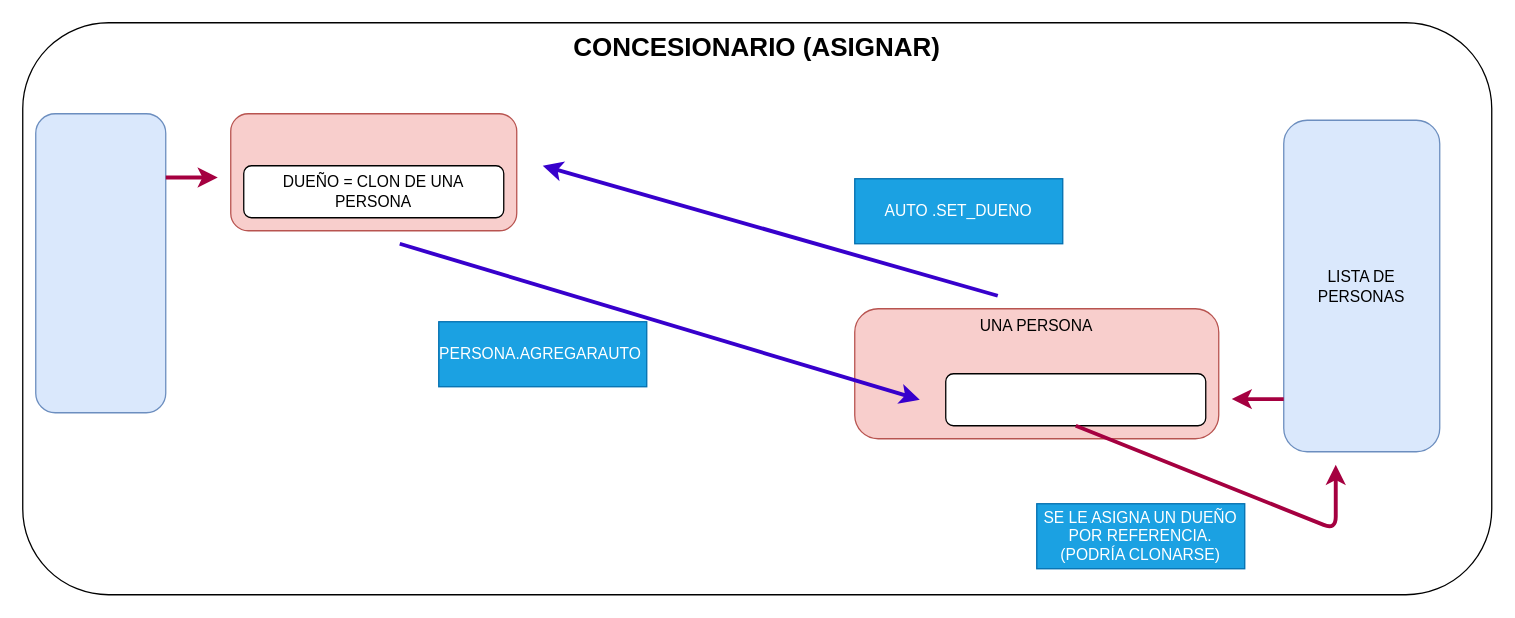
This 1515x618 diagram has some shape labels left out. Each missing label, with the box of its shape:
LISTA DE AUTOS: (34, 112, 166, 413)
LISTA DE AUTOS = CLON DE AUTO: (944, 372, 1206, 426)
UN AUTO: (229, 112, 517, 231)
